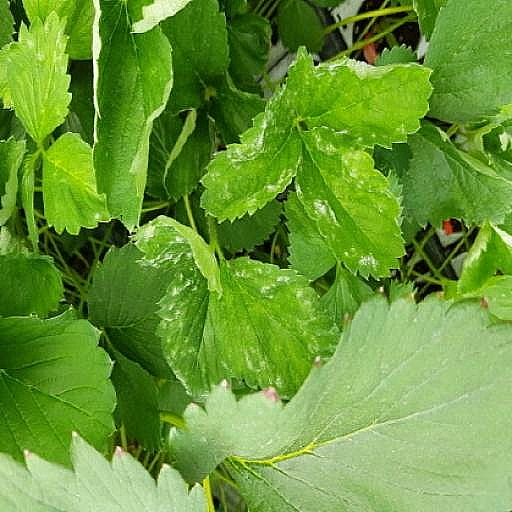Powdery Mildew Leaf: (191, 103, 340, 256), (90, 276, 174, 511), (292, 230, 406, 387), (284, 362, 435, 466), (198, 287, 301, 428), (0, 368, 73, 503), (128, 213, 221, 298), (153, 108, 208, 243)
